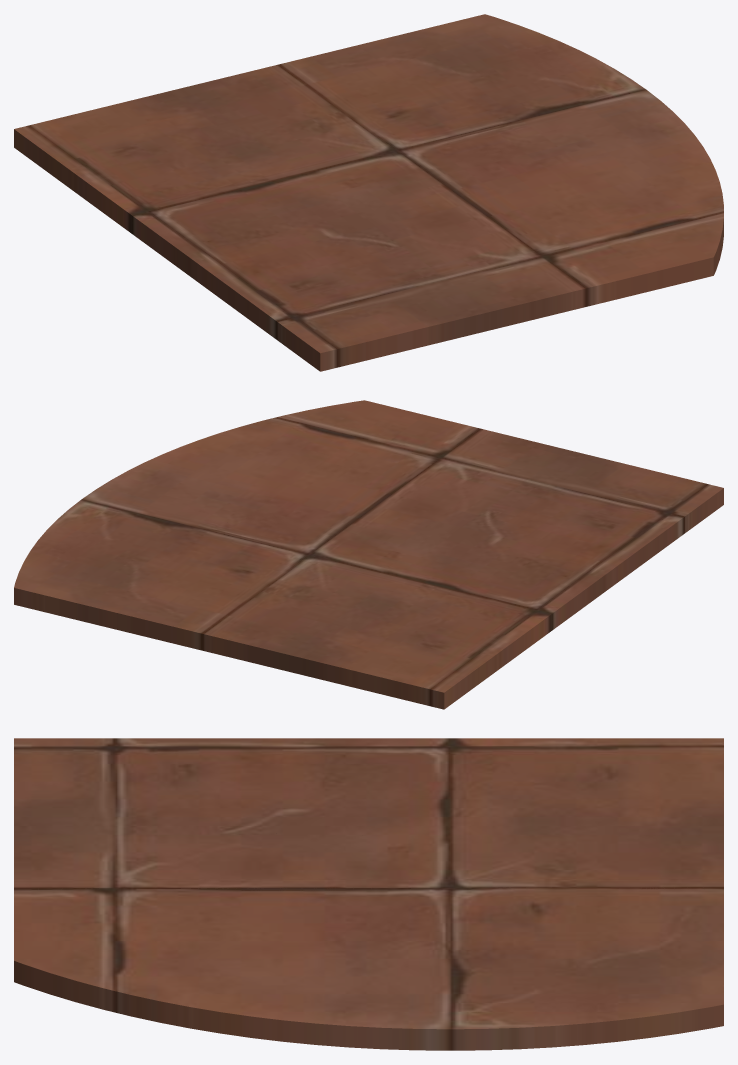
Rendered from Tile_Break4.FBX.
3 renders of one model, top to bottom at view 1: azimuth 30°, elevation 25°; view 2: azimuth 150°, elevation 25°; view 3: azimuth 270°, elevation 25°, orthographic. The views are drawn at different scales.
Visible parts, largest first — view 1: Piso49, Piso40, Piso46, Piso01, Piso39, Piso48, Piso43, Piso52, Piso38, Piso45, Piso37, Piso36 (+6 smaller); view 2: Piso49, Piso40, Piso43, Piso01, Piso38, Piso39, Piso48, Piso46, Piso52, Piso45, Piso37, Piso36 (+6 smaller); view 3: Piso40, Piso49, Piso01, Piso39, Piso48, Piso43, Piso46, Piso38, Piso52, Piso45, Piso37, Piso36 (+7 smaller).
Part boxes in pixels (box(x1,y1,x2,y2)): Piso49: box(14, 129, 347, 371); Piso40: box(437, 17, 723, 270); Piso46: box(324, 267, 554, 370); Piso01: box(391, 82, 645, 219); Piso39: box(398, 121, 564, 224); Piso48: box(176, 158, 370, 276); Piso43: box(225, 14, 495, 106); Piso52: box(526, 219, 715, 314); Piso38: box(15, 77, 254, 157); Piso45: box(348, 232, 525, 280); Piso37: box(182, 107, 324, 180); Piso36: box(278, 137, 402, 217); Piso49: box(422, 487, 723, 709); Piso40: box(15, 401, 354, 582); Piso43: box(14, 565, 292, 662); Piso01: box(145, 446, 344, 579); Piso38: box(252, 622, 443, 709); Piso39: box(225, 477, 406, 567); Piso48: box(421, 513, 574, 623); Piso46: box(470, 436, 718, 513); Piso52: box(329, 400, 509, 458); Piso45: box(416, 458, 567, 523); Piso37: box(293, 581, 421, 626); Piso36: box(317, 529, 441, 587); Piso40: box(24, 945, 709, 1050); Piso49: box(14, 738, 722, 794); Piso01: box(154, 905, 589, 991); Piso39: box(223, 874, 518, 950); Piso48: box(180, 761, 556, 826); Piso43: box(590, 853, 723, 1028); Piso46: box(14, 741, 179, 874); Piso38: box(557, 738, 723, 857); Piso52: box(14, 870, 152, 985); Piso45: box(98, 794, 257, 883); Piso37: box(448, 792, 636, 865); Piso36: box(300, 820, 525, 873).
Size of the model in its own units: 146 by 5 by 150.
1 material, 1 textured.
